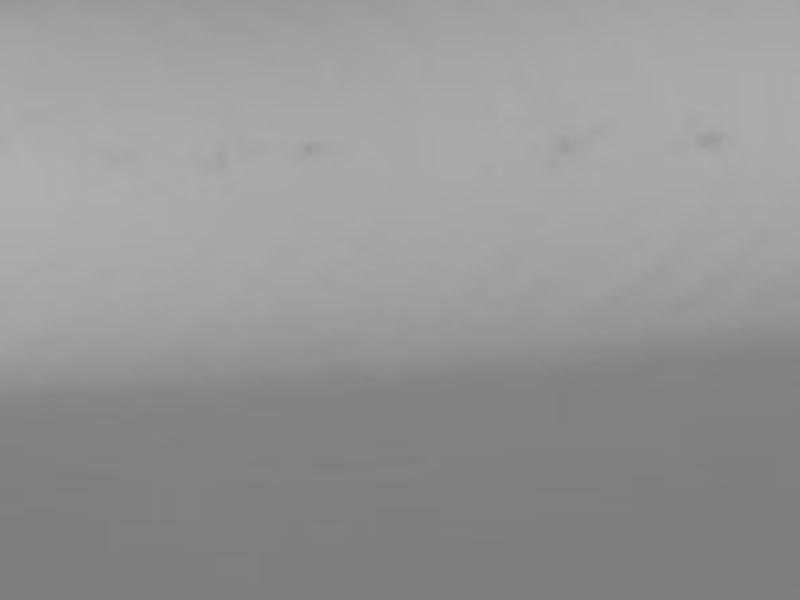defect: (544, 133, 585, 161), (693, 132, 730, 162), (204, 142, 233, 171), (296, 137, 326, 162)
